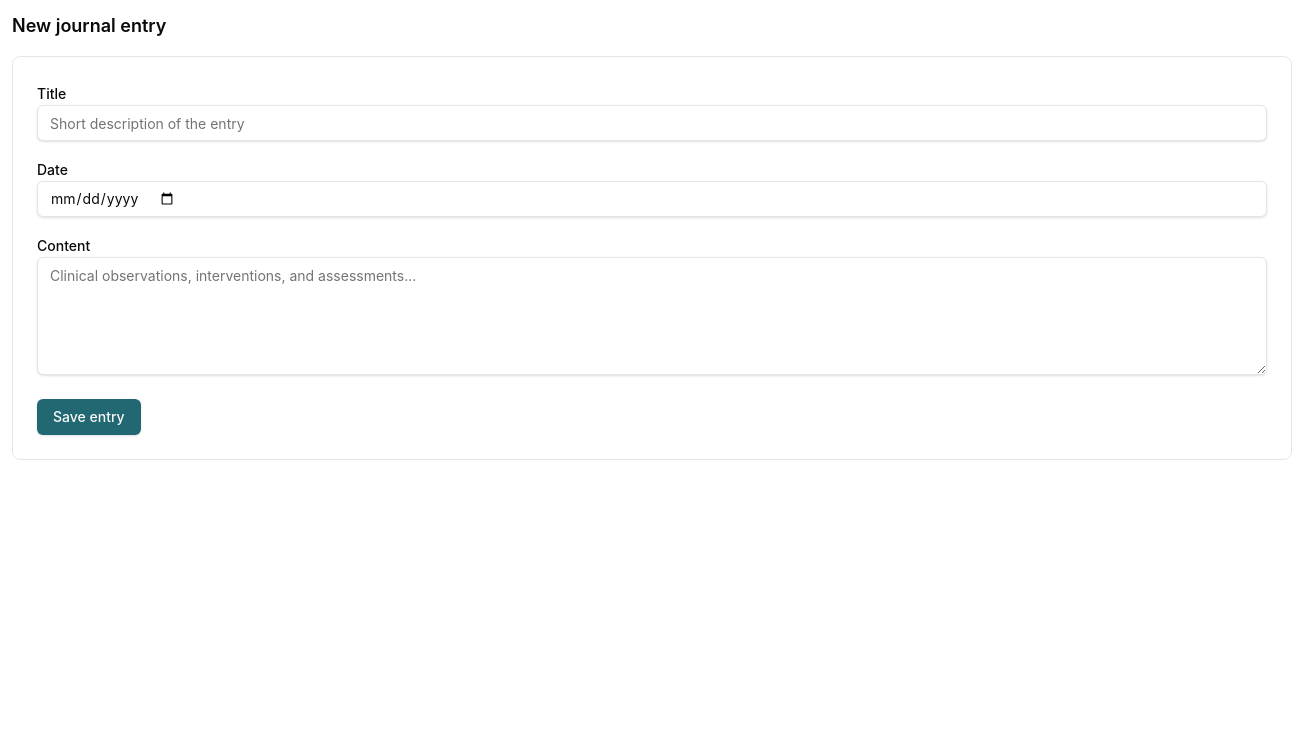
JournalForm › keeps submit available and shows field errors for invalid input
Click the button "Save entry".
click(89, 417)  # box [37,399,141,435]
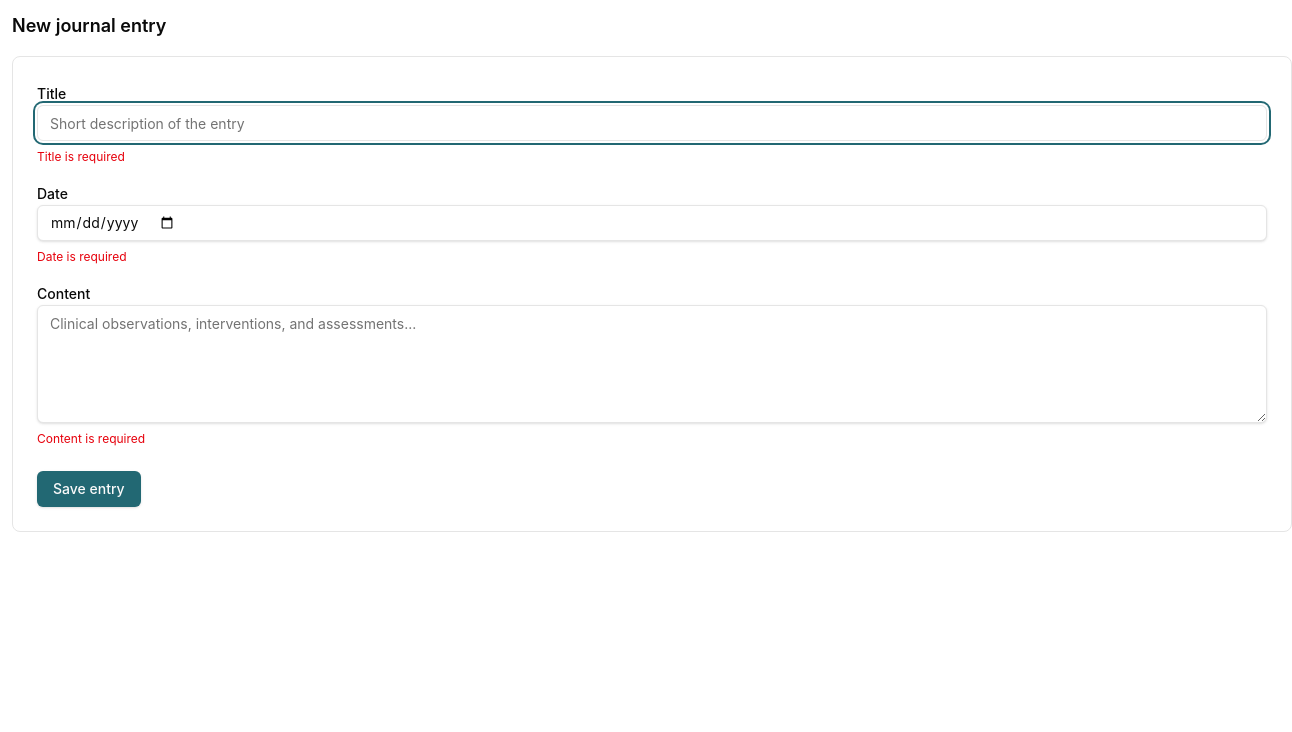
Now the text "Title is required" is shown, box [37,149,125,164]
Now the text "Date is required" is shown, box [37,249,126,264]
Now the text "Content is required" is shown, box [37,431,145,446]
